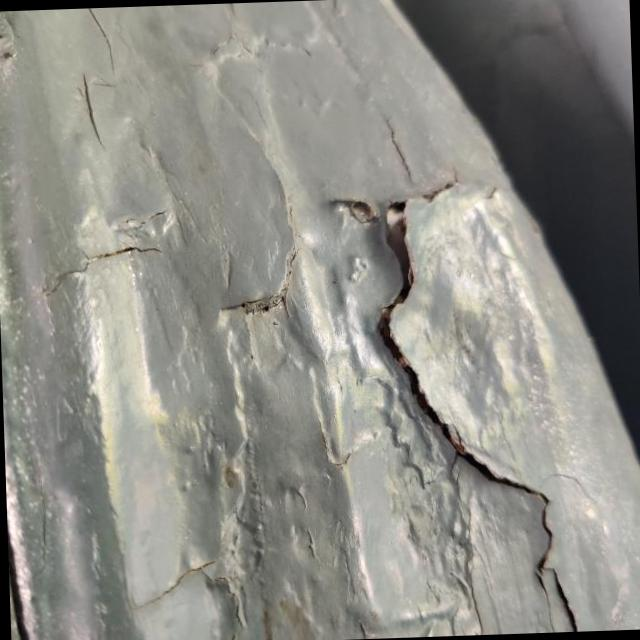Crack: (304, 185, 607, 639)
